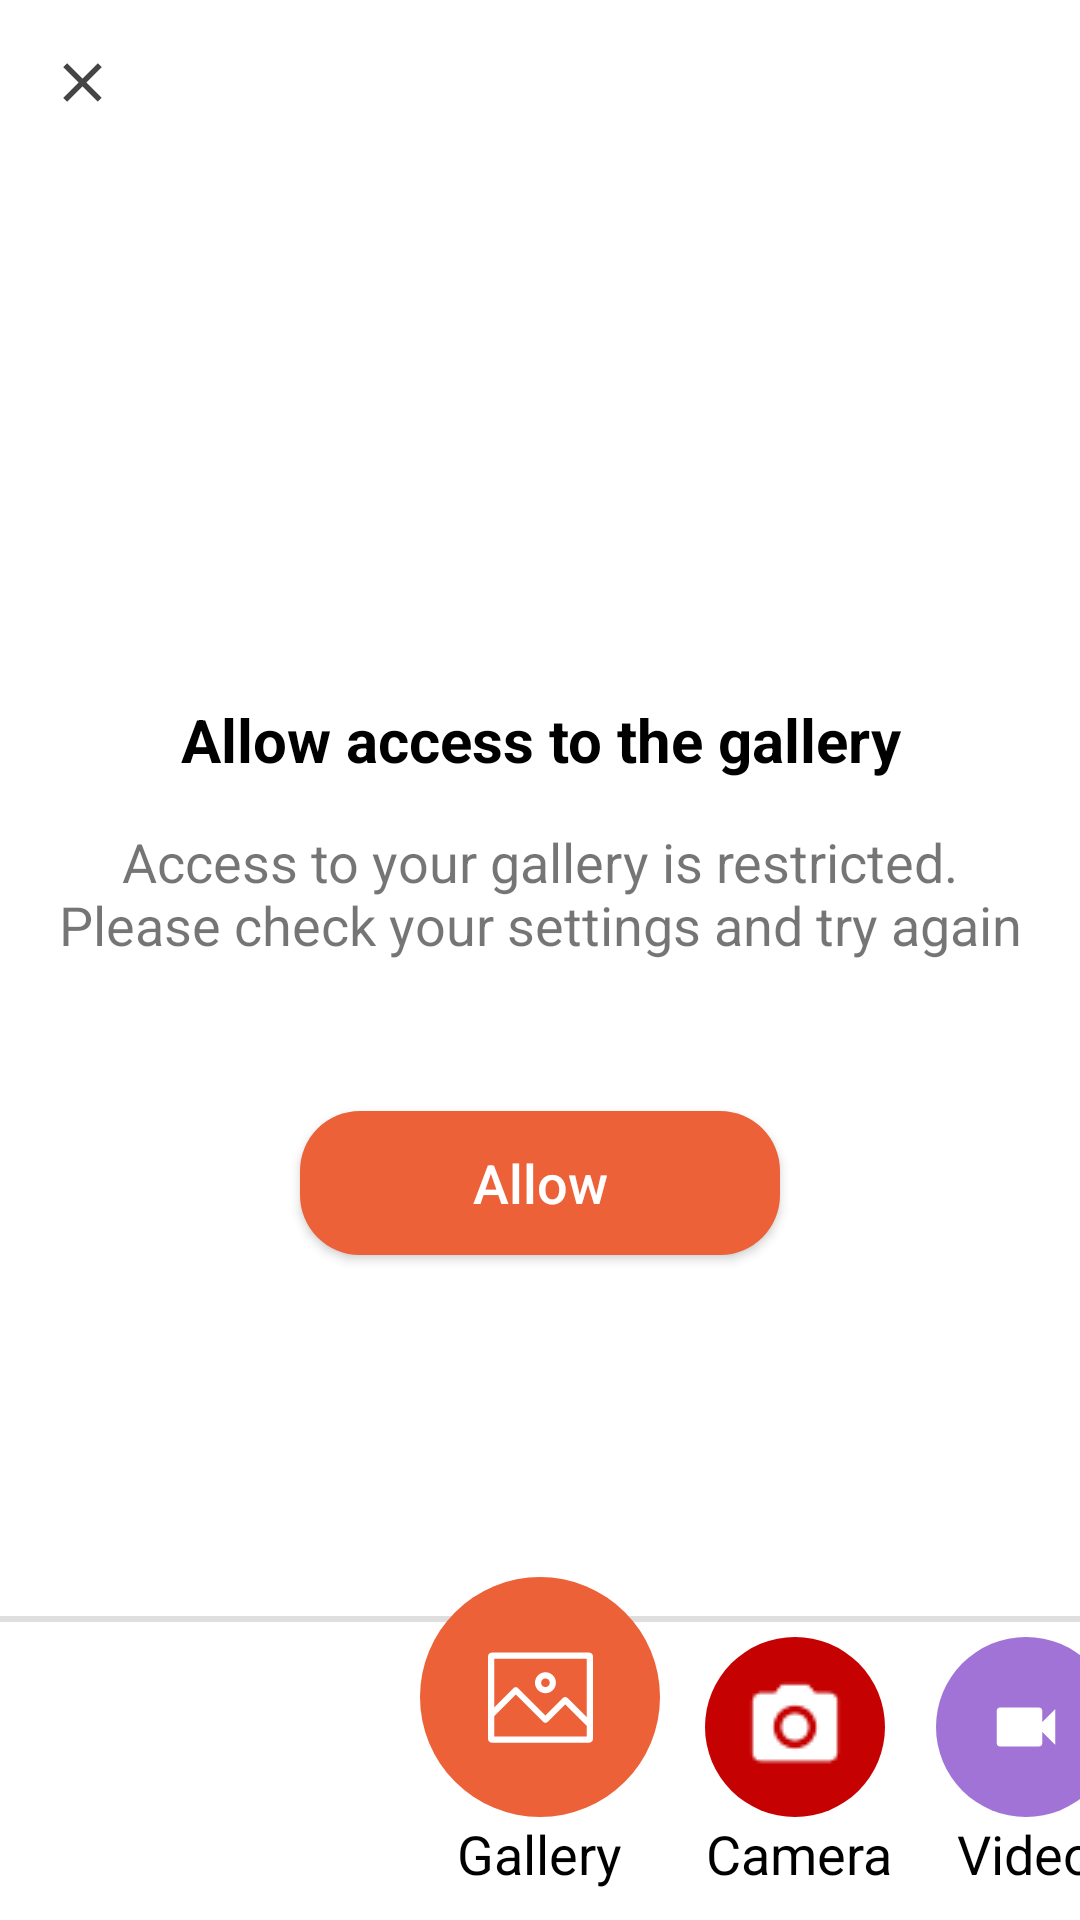

Where to tap for icons on this 1080 x 1920 app screen, as point (x, y):
exit: point (82, 82)
